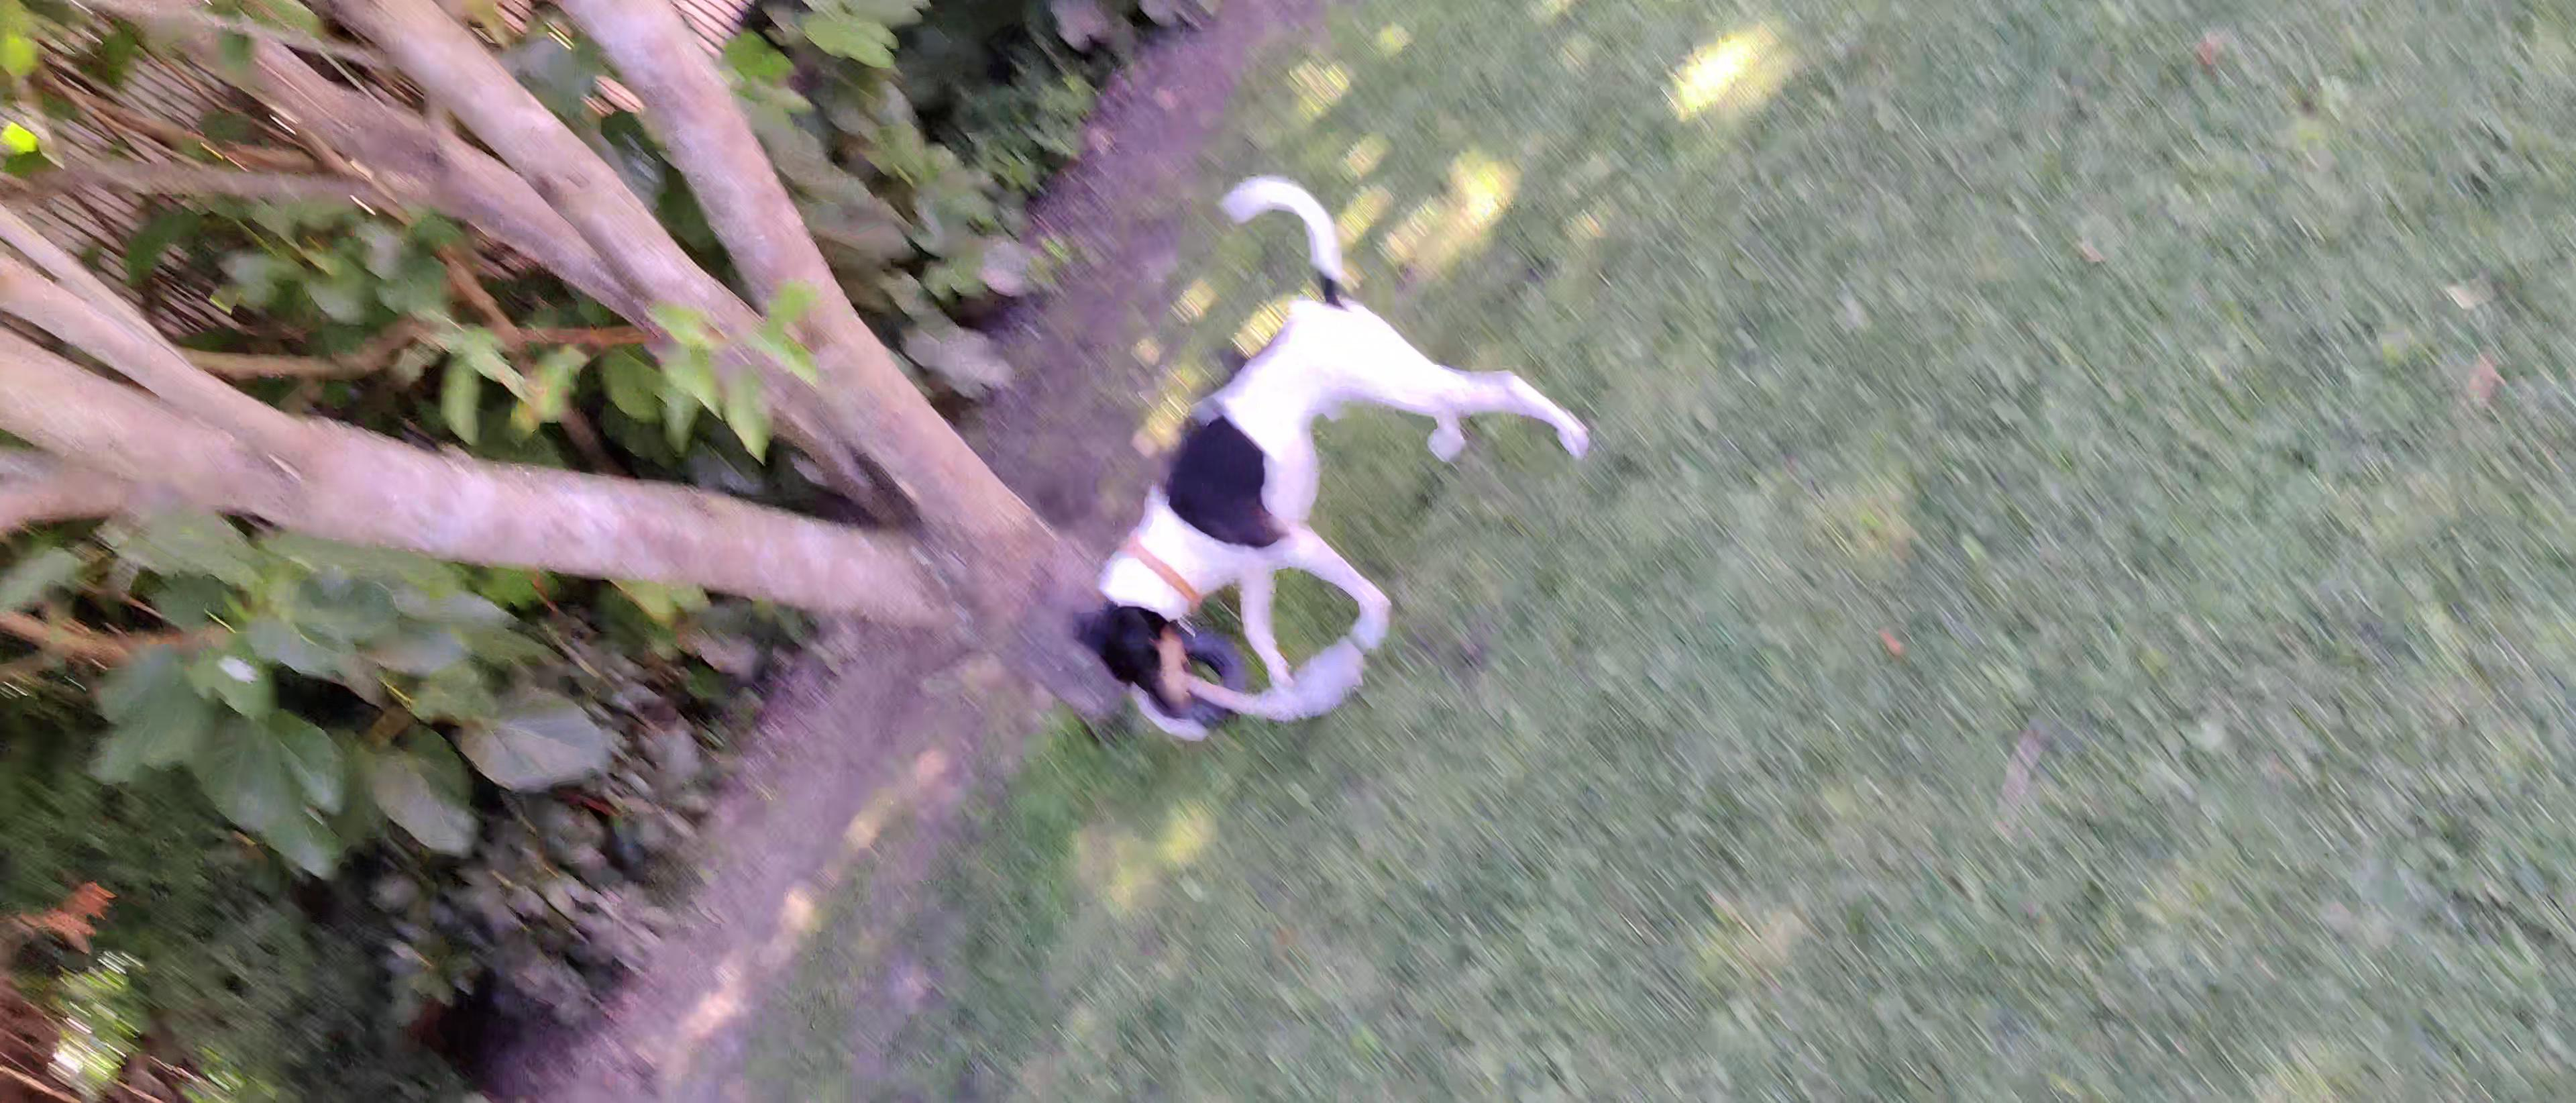Dog: (1060, 166, 1595, 723)
